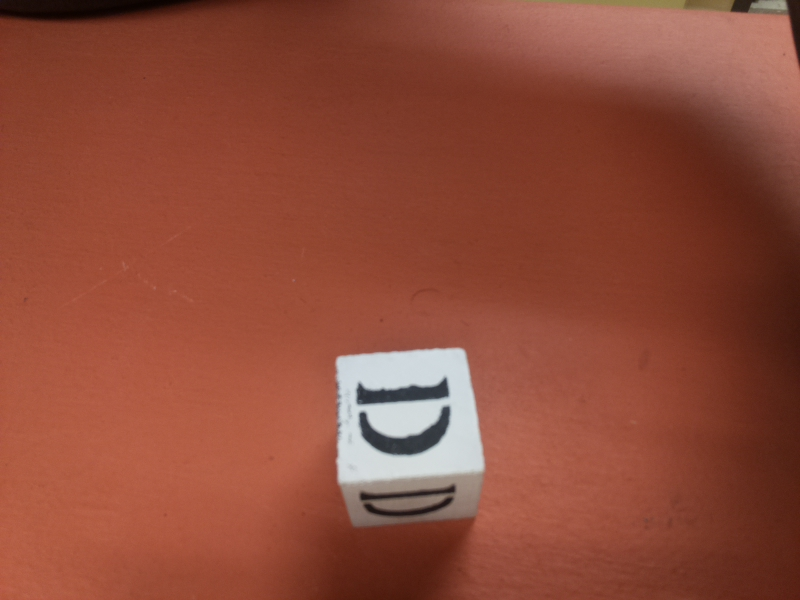blockD: (333, 352, 488, 520)
